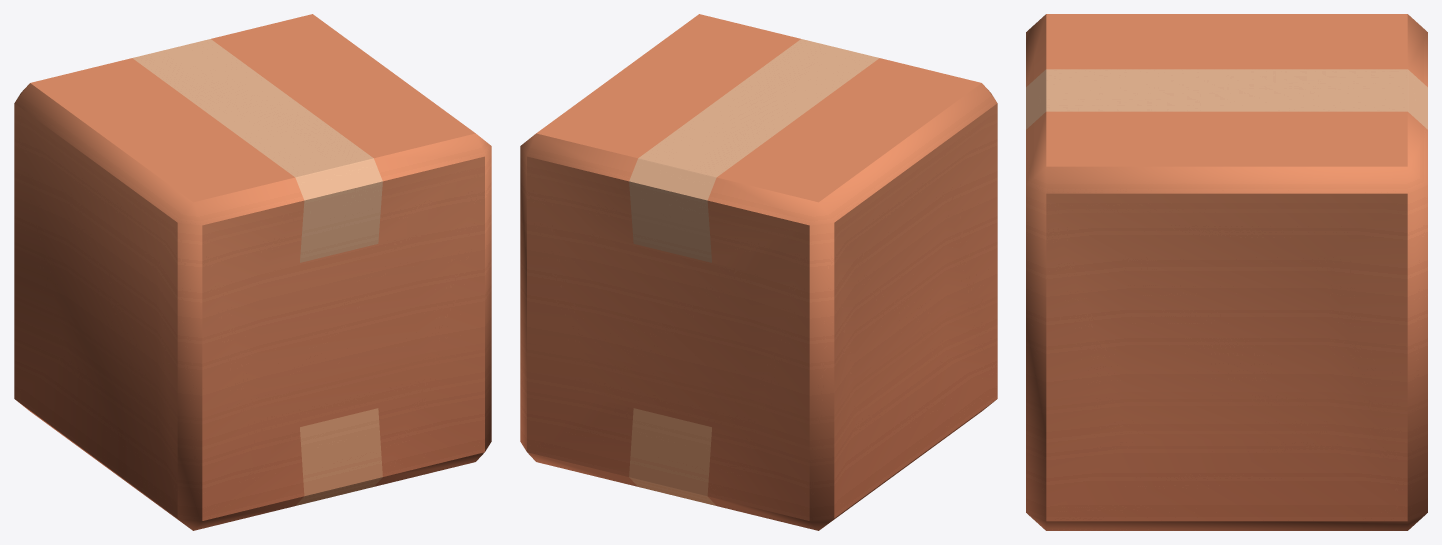
The model's file is crate.glb.
3 views of the same model, side by side, from view 1: azimuth 30°, elevation 25°; view 2: azimuth 150°, elevation 25°; view 3: azimuth 270°, elevation 25° (orthographic). The views are drawn at different scales.
Parts seen in each view (by area): view 1: box; view 2: box; view 3: box.
Part boxes in pixels (<box>): box: <box>14,14,491,530</box>; box: <box>520,14,997,530</box>; box: <box>1026,14,1427,530</box>.
Size of the model in its own units: 0.25 by 0.25 by 0.25.
1 material, 1 textured.
